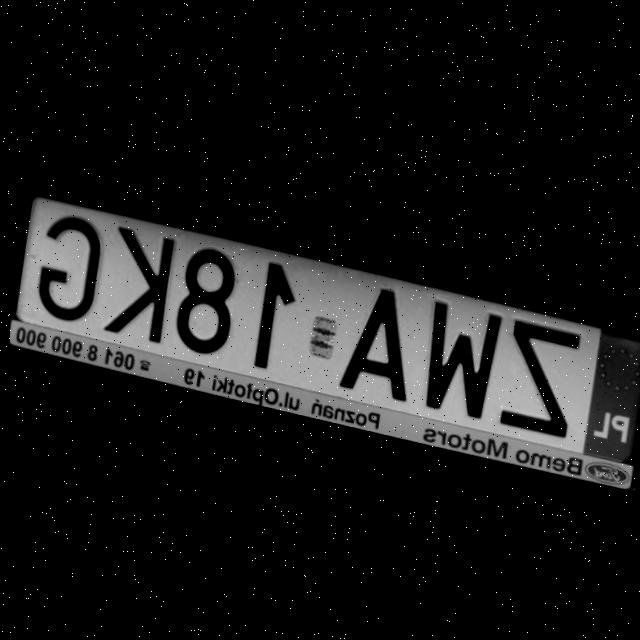license-plates: (16, 196, 640, 464)
